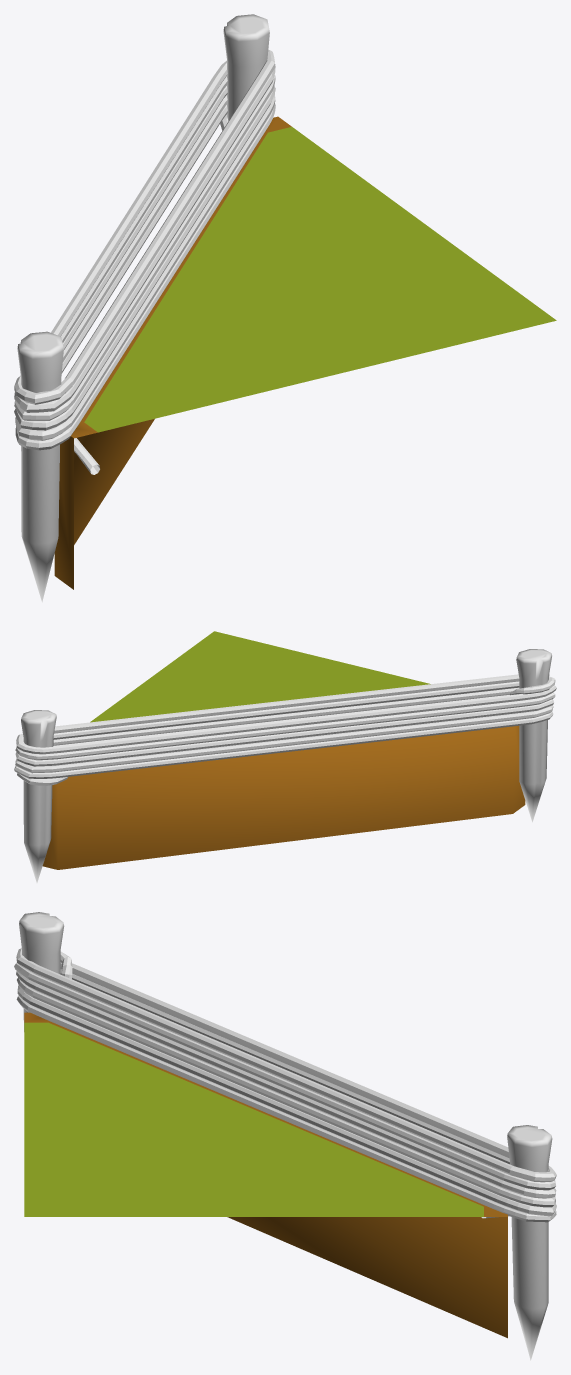
The model's file is SB_Shear_Up01.fbx.
The picture shows the model from 3 angles, top to bottom: view 1: azimuth 30°, elevation 25°; view 2: azimuth 150°, elevation 25°; view 3: azimuth 270°, elevation 25°; orthographic projection. The views are drawn at different scales.
Visible parts, largest first — view 1: SM_Bld_Sign_04.000; view 2: SM_Bld_Sign_04.000; view 3: SM_Bld_Sign_04.000.
Part boxes in pixels (<box>): SM_Bld_Sign_04.000: <box>14,14,556,602</box>; SM_Bld_Sign_04.000: <box>14,631,556,882</box>; SM_Bld_Sign_04.000: <box>14,912,556,1360</box>.
Bounding box in the file's own units: 225 × 106 × 225.
